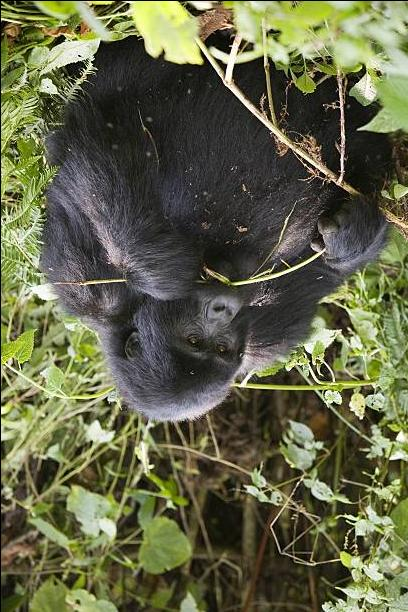goriile_montagne: (12, 22, 395, 428)
